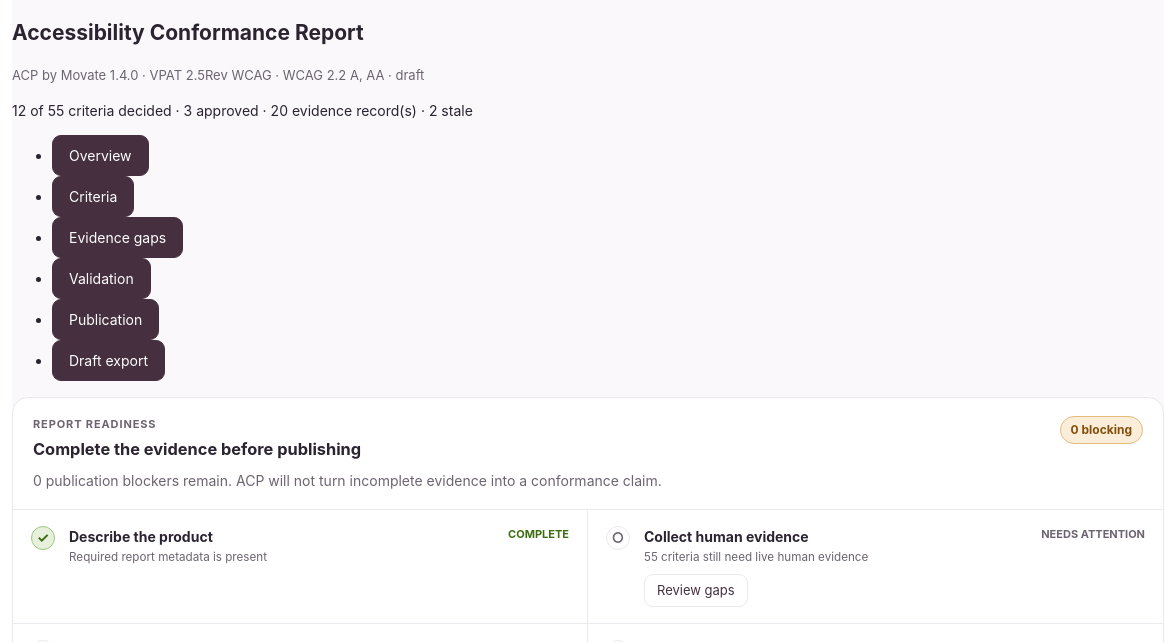
it: what the screen must not claim › says the draft export is not a VPAT
The image size is (1164, 642).
Click the button "Draft export": (108, 360) [52,340,165,381]
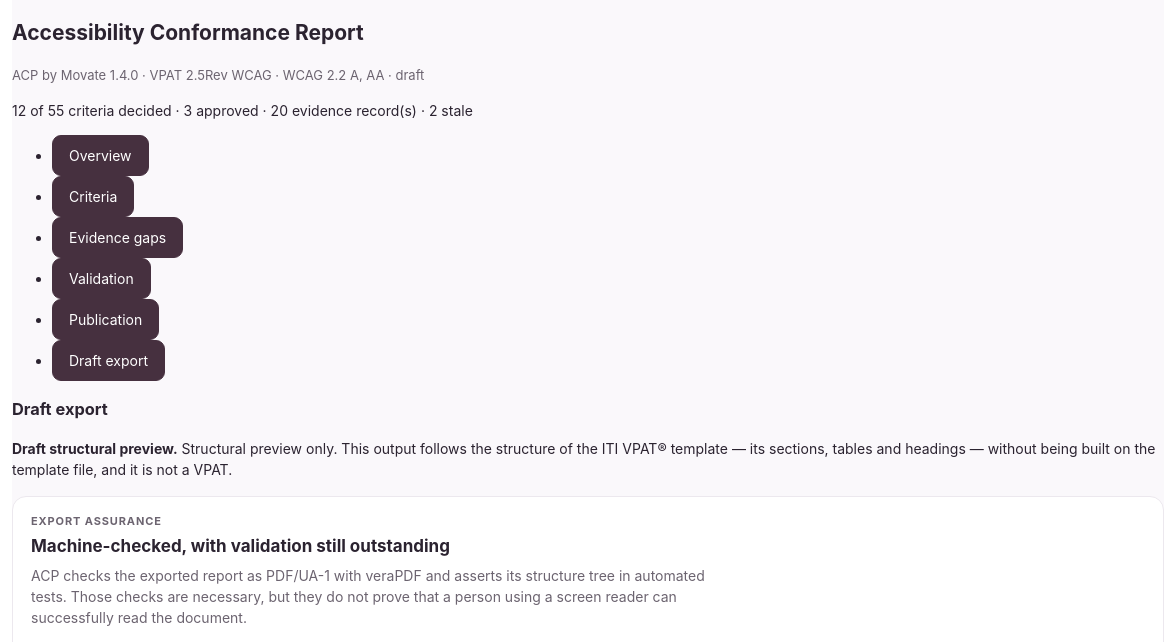
Expected: the text "Draft structural preview" is shown, [12,440,178,457]
Expected: the text "is not a VPAT" is shown, [12,440,1156,478]
